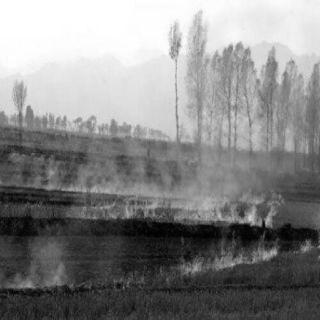Fire: (170, 184, 282, 234), (79, 185, 165, 222), (212, 230, 280, 272), (178, 250, 205, 278), (296, 232, 314, 255), (118, 271, 131, 293)
